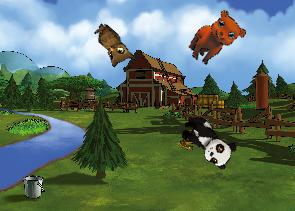bear: (183, 4, 250, 75)
owl: (84, 21, 137, 72)
panda: (174, 110, 240, 172)
